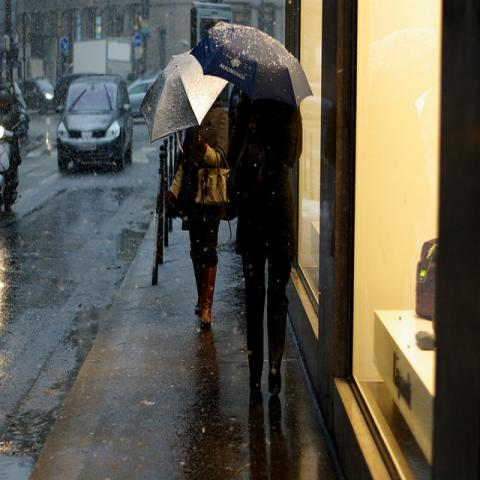car: (57, 76, 134, 173), (18, 79, 55, 113), (130, 77, 158, 117)
motorcycle: (1, 113, 27, 219)
truck: (73, 38, 134, 90)
